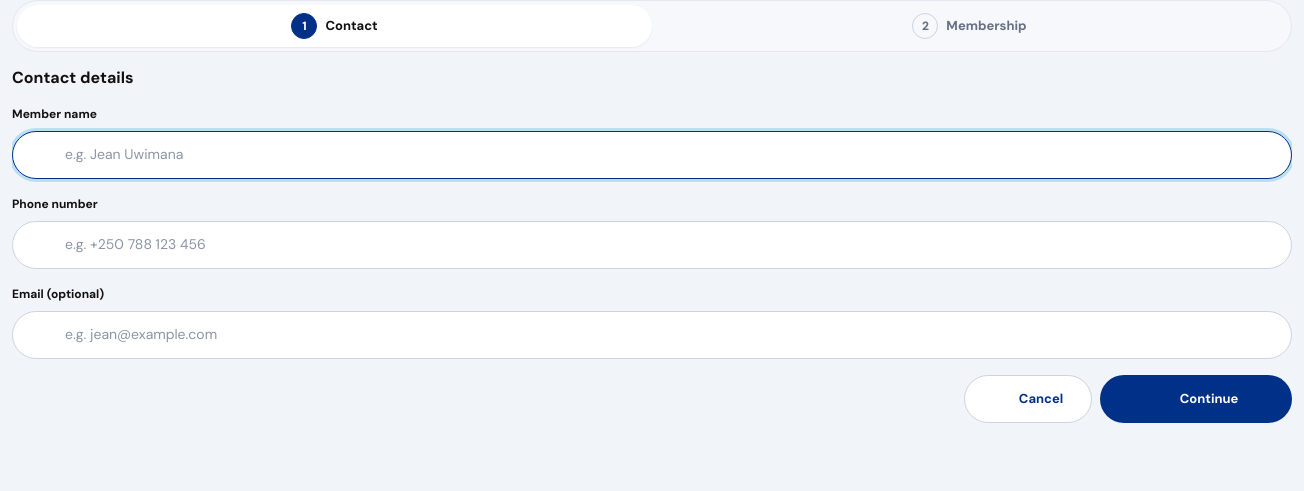
Scenario: shared member form › shows inline validation and prevents invalid registration
Click the button "Continue". click: (1196, 399)
box: [1100, 375, 1292, 423]
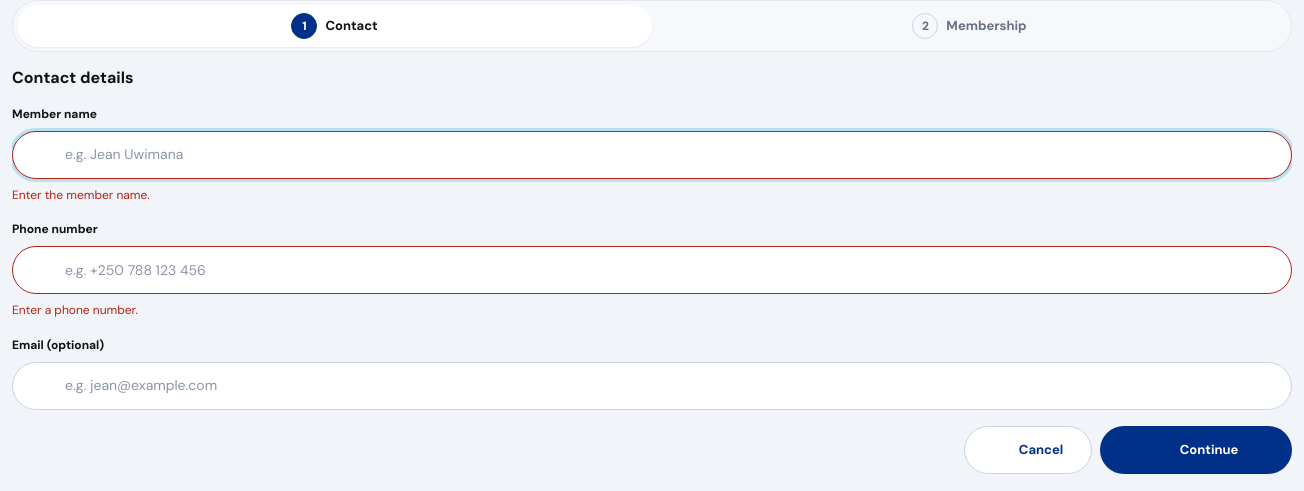
Result: the text "Enter the member name." is shown at [12, 187, 150, 203]
